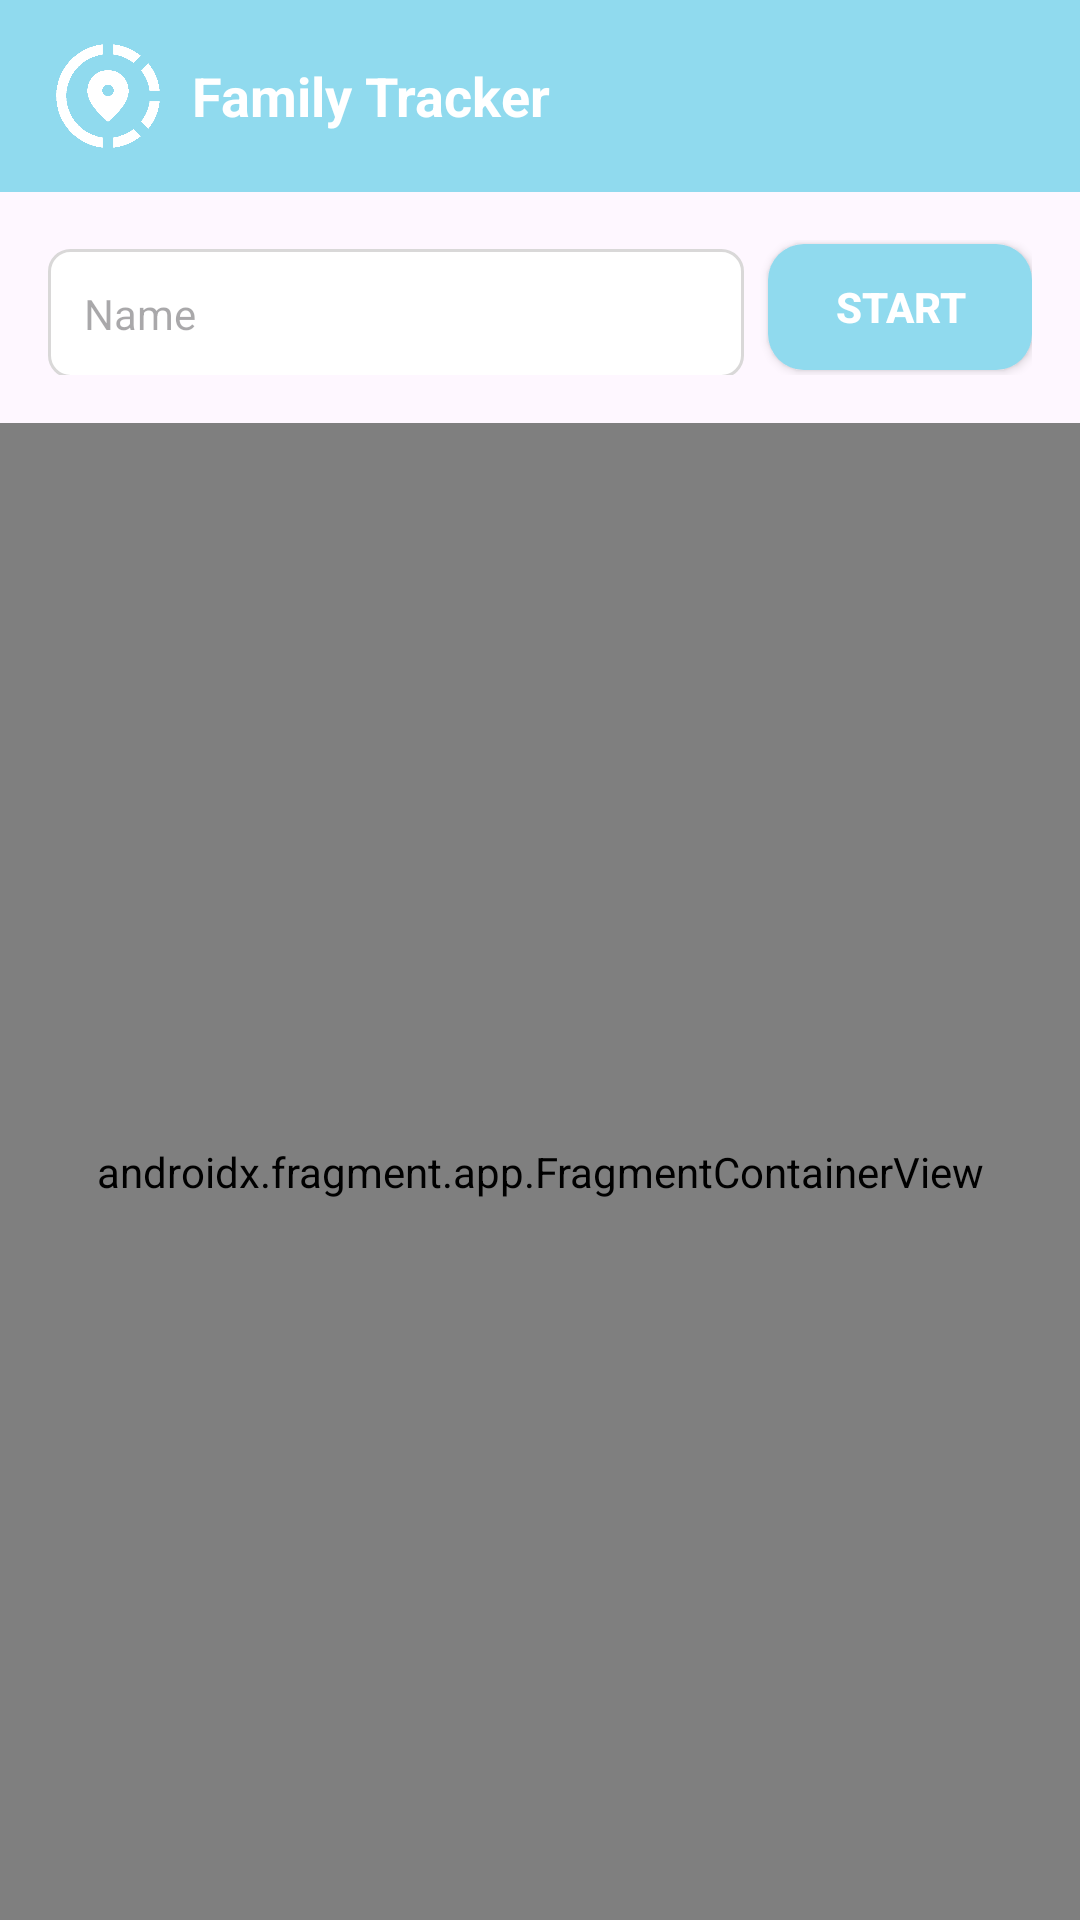

Named icons in this screenshot (1080×1920) and their bounding boxes, (x1, y1, x2, y2):
appicon: (56, 44, 160, 148)
